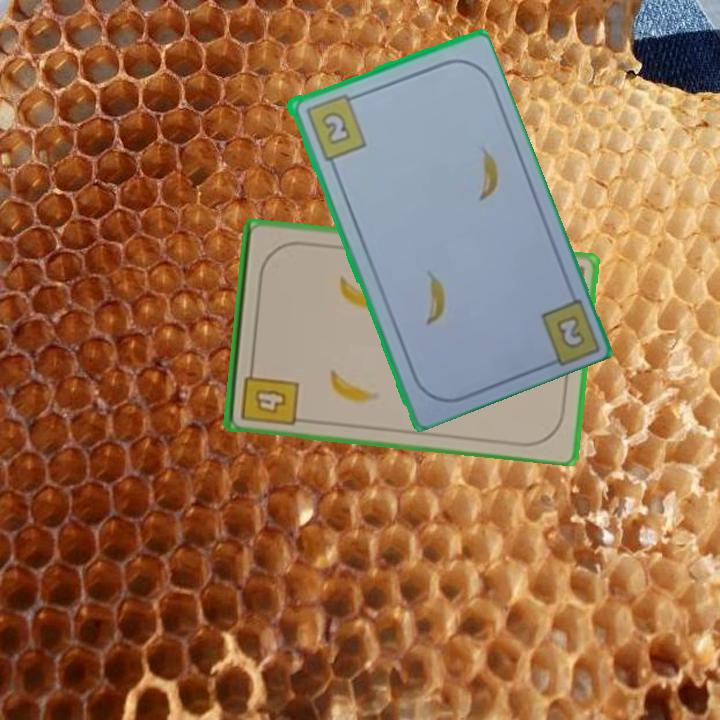2b: (301, 89, 369, 163), (555, 315, 585, 349)
4b: (237, 359, 301, 428)
